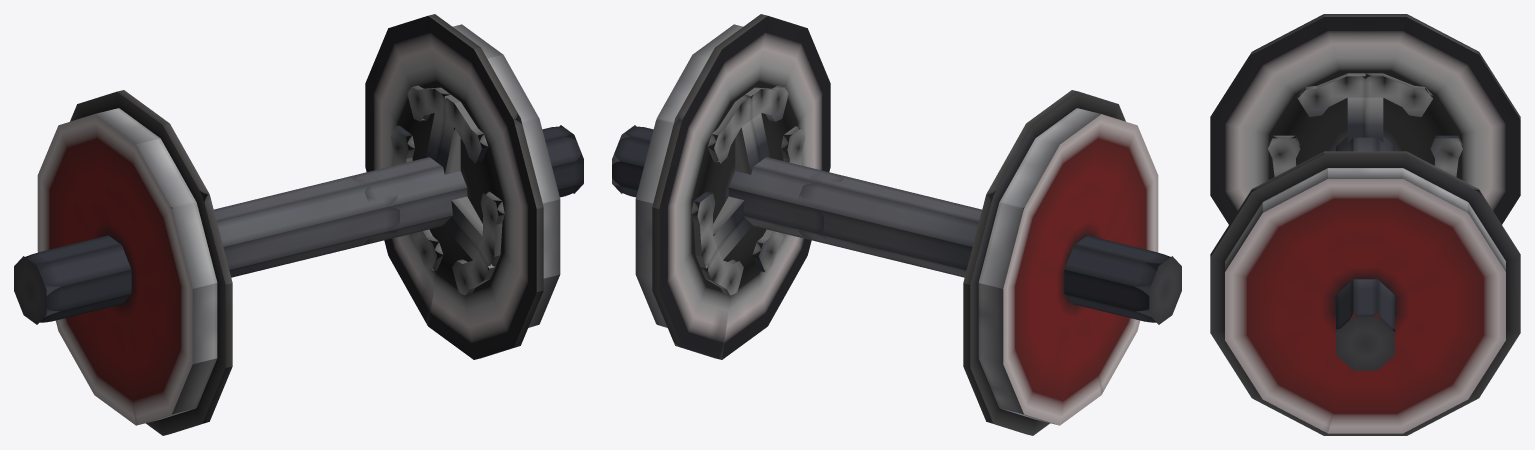
Rendered from wheel_rear.obj.
3 views of the same model, side by side, from view 1: azimuth 30°, elevation 25°; view 2: azimuth 150°, elevation 25°; view 3: azimuth 270°, elevation 25° (orthographic). The views are drawn at different scales.
Parts seen in each view (by area): view 1: c7b8bec3-e4b1-09bc-442b-bdc5dc97ddfd, b3bd71ed-e0de-7106-ceaa-6b620487b13d, 9dbee510-c8d7-4213-2ab8-3d246ef4ebb7, f417bf53-9045-e02a-a2be-520961a9d24c, 07df8333-dc1b-d2bc-1da2-96df79c8aa60, 1f8bc015-26b8-dab6-e7da-dbdfbf07ed55, 3fa1d088-e651-c181-9093-a118805a8fe3, a63c210d-7431-65a5-3bff-b08f318cd5a0, c1f000ad-aa6d-5f8a-f604-caa192d3fb73, d74567b5-b3a4-4a43-5b16-f74a88384b40, e4ab7174-1ca5-28f9-4fd6-a8d01fee5a38, bda3142a-876e-8e0b-aa1b-8e80297c10dd; view 2: c7b8bec3-e4b1-09bc-442b-bdc5dc97ddfd, b3bd71ed-e0de-7106-ceaa-6b620487b13d, 9dbee510-c8d7-4213-2ab8-3d246ef4ebb7, 07df8333-dc1b-d2bc-1da2-96df79c8aa60, f417bf53-9045-e02a-a2be-520961a9d24c, 1f8bc015-26b8-dab6-e7da-dbdfbf07ed55, bda3142a-876e-8e0b-aa1b-8e80297c10dd, d74567b5-b3a4-4a43-5b16-f74a88384b40, e4ab7174-1ca5-28f9-4fd6-a8d01fee5a38, 3fa1d088-e651-c181-9093-a118805a8fe3, c1f000ad-aa6d-5f8a-f604-caa192d3fb73, a63c210d-7431-65a5-3bff-b08f318cd5a0; view 3: 1f8bc015-26b8-dab6-e7da-dbdfbf07ed55, f417bf53-9045-e02a-a2be-520961a9d24c, b3bd71ed-e0de-7106-ceaa-6b620487b13d, 07df8333-dc1b-d2bc-1da2-96df79c8aa60, cf10178e-2c97-8860-edf3-bad26311f033, 3b433463-bbec-5356-2fb1-fb3e228e7ddb, 32335d47-a707-78de-302b-036e565aa82d, 24e0c196-d558-7c97-99b3-f03dc3f63268, 9dbee510-c8d7-4213-2ab8-3d246ef4ebb7.
Boxes of the visible parts, <box> form: c7b8bec3-e4b1-09bc-442b-bdc5dc97ddfd: <box>37,108,217,425</box>; b3bd71ed-e0de-7106-ceaa-6b620487b13d: <box>365,14,543,359</box>; 9dbee510-c8d7-4213-2ab8-3d246ef4ebb7: <box>14,174,399,324</box>; f417bf53-9045-e02a-a2be-520961a9d24c: <box>70,90,232,435</box>; 07df8333-dc1b-d2bc-1da2-96df79c8aa60: <box>352,125,583,243</box>; 1f8bc015-26b8-dab6-e7da-dbdfbf07ed55: <box>453,24,560,327</box>; 3fa1d088-e651-c181-9093-a118805a8fe3: <box>436,94,488,174</box>; a63c210d-7431-65a5-3bff-b08f318cd5a0: <box>451,191,504,268</box>; c1f000ad-aa6d-5f8a-f604-caa192d3fb73: <box>443,218,495,295</box>; d74567b5-b3a4-4a43-5b16-f74a88384b40: <box>407,85,450,161</box>; e4ab7174-1ca5-28f9-4fd6-a8d01fee5a38: <box>411,229,443,271</box>; bda3142a-876e-8e0b-aa1b-8e80297c10dd: <box>390,125,414,165</box>; c7b8bec3-e4b1-09bc-442b-bdc5dc97ddfd: <box>978,108,1158,425</box>; b3bd71ed-e0de-7106-ceaa-6b620487b13d: <box>652,14,830,359</box>; 9dbee510-c8d7-4213-2ab8-3d246ef4ebb7: <box>798,172,1181,324</box>; 07df8333-dc1b-d2bc-1da2-96df79c8aa60: <box>612,125,843,241</box>; f417bf53-9045-e02a-a2be-520961a9d24c: <box>963,90,1125,435</box>; 1f8bc015-26b8-dab6-e7da-dbdfbf07ed55: <box>635,24,742,327</box>; bda3142a-876e-8e0b-aa1b-8e80297c10dd: <box>691,191,744,268</box>; d74567b5-b3a4-4a43-5b16-f74a88384b40: <box>707,95,759,174</box>; e4ab7174-1ca5-28f9-4fd6-a8d01fee5a38: <box>701,218,752,295</box>; 3fa1d088-e651-c181-9093-a118805a8fe3: <box>745,85,788,161</box>; c1f000ad-aa6d-5f8a-f604-caa192d3fb73: <box>752,229,784,271</box>; a63c210d-7431-65a5-3bff-b08f318cd5a0: <box>781,126,805,165</box>; 1f8bc015-26b8-dab6-e7da-dbdfbf07ed55: <box>1225,168,1505,433</box>; f417bf53-9045-e02a-a2be-520961a9d24c: <box>1210,14,1520,224</box>; b3bd71ed-e0de-7106-ceaa-6b620487b13d: <box>1210,151,1520,435</box>; 07df8333-dc1b-d2bc-1da2-96df79c8aa60: <box>1336,279,1394,370</box>; cf10178e-2c97-8860-edf3-bad26311f033: <box>1297,73,1365,142</box>; 3b433463-bbec-5356-2fb1-fb3e228e7ddb: <box>1365,73,1433,142</box>; 32335d47-a707-78de-302b-036e565aa82d: <box>1430,135,1462,176</box>; 24e0c196-d558-7c97-99b3-f03dc3f63268: <box>1268,135,1300,176</box>; 9dbee510-c8d7-4213-2ab8-3d246ef4ebb7: <box>1336,136,1394,151</box>.
Bounding box in the file's own units: 2.38 × 1.31 × 1.31.
